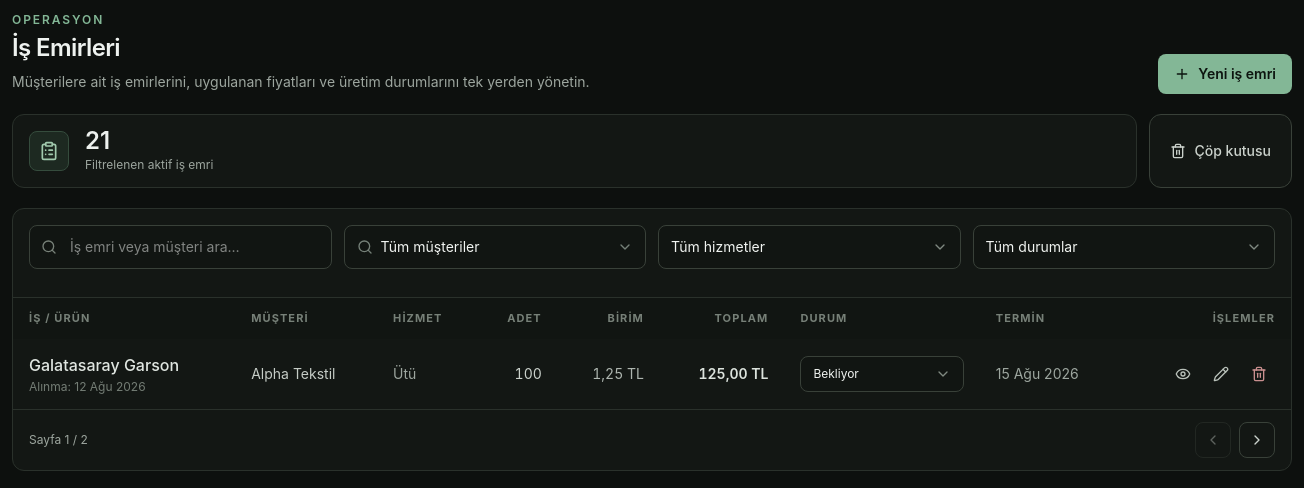
it: WorkOrderPage › pagination ile sonraki sayfaya geçer
Click the button named "Sonraki sayfa" at (1257,440), box [1239,422,1275,458]
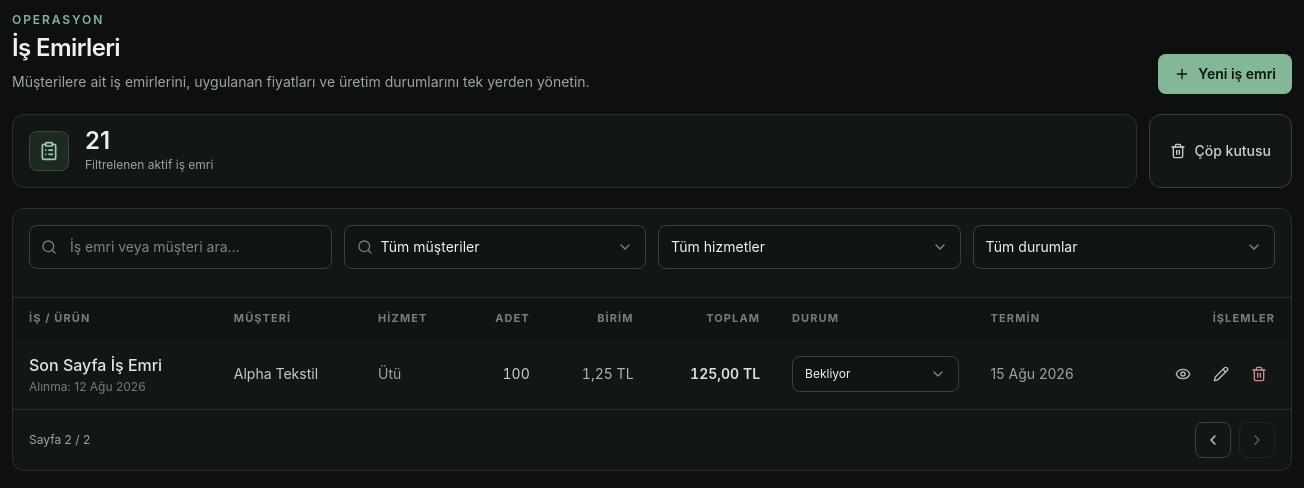
Now the text "Son Sayfa İş Emri" is shown, box [29,354,162,374]
